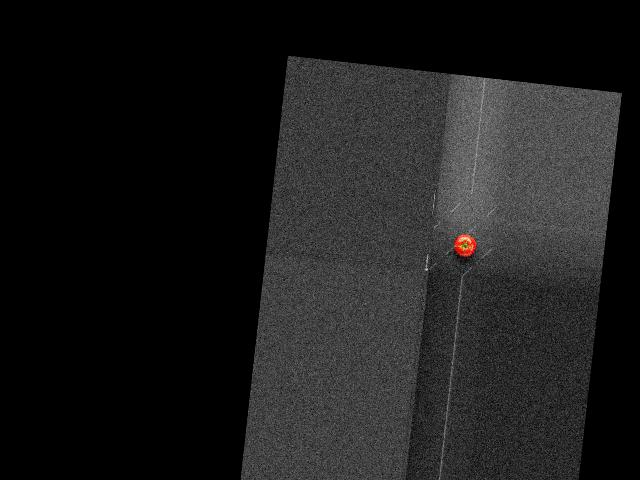tomato: (452, 232, 477, 257)
